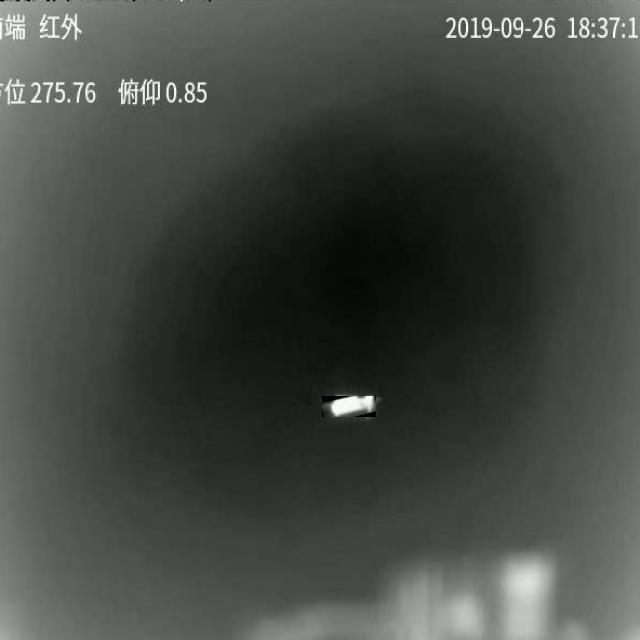drone: (322, 396, 374, 417)
